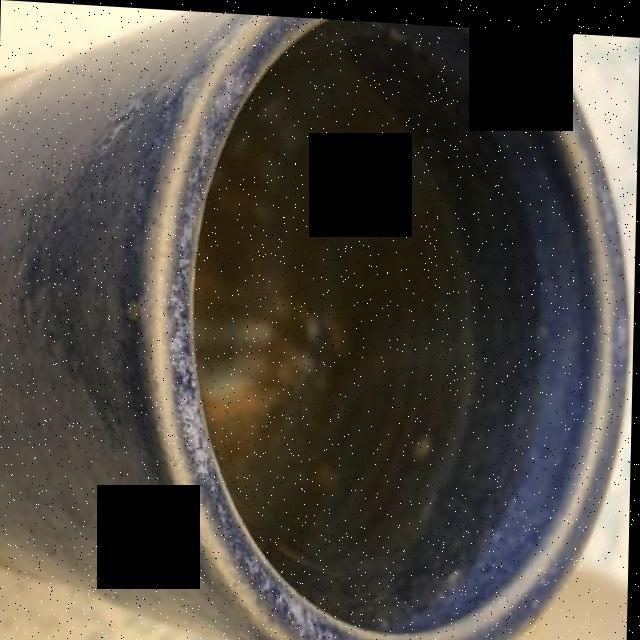drink: (192, 31, 471, 601)
